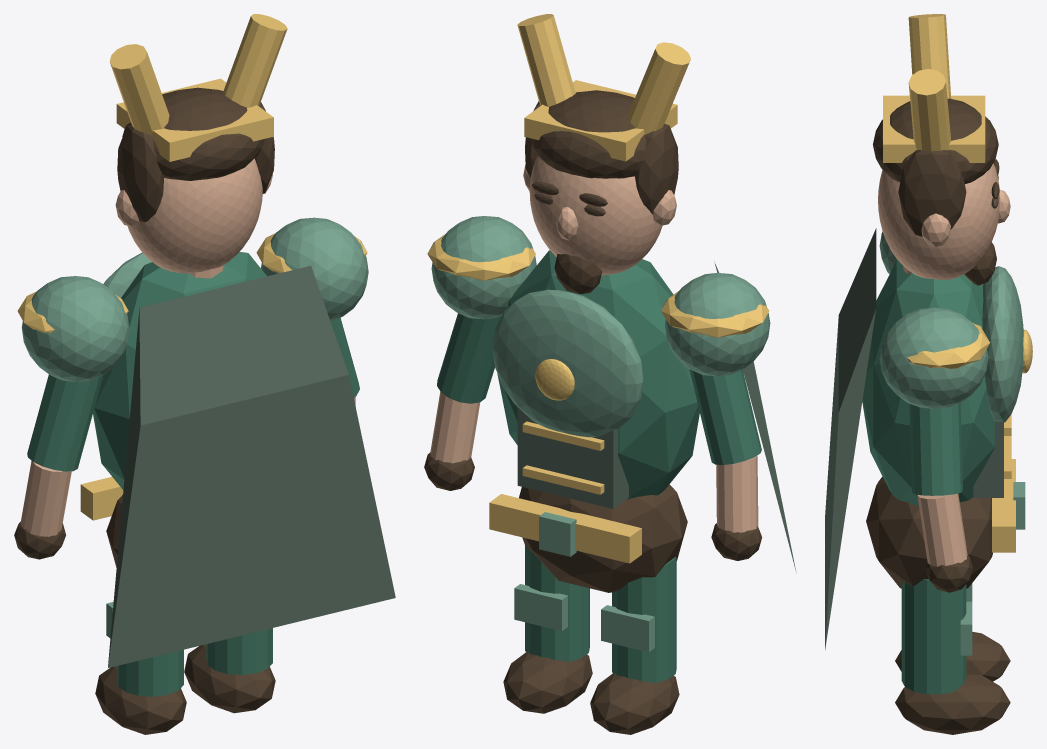
Rendered from loki.glb.
The picture shows the model from 3 angles, left to right: view 1: azimuth 30°, elevation 25°; view 2: azimuth 150°, elevation 25°; view 3: azimuth 270°, elevation 25°; orthographic projection. The views are drawn at different scales.
Visible parts, largest first — view 1: loki_39_Draped cape, loki_23_Face, loki_12_Shoulder pauldron, loki_0_Armored torso, loki_17_Shoulder pauldron, loki_31_Hair, loki_13_Upper arm, loki_37_Right curved horn, loki_10_Boot, loki_7_Boot, loki_36_Left curved horn, loki_38_Horned circlet (+11 smaller); view 2: loki_2_Chest plate, loki_0_Armored torso, loki_23_Face, loki_1_Waist and belt, loki_12_Shoulder pauldron, loki_31_Hair, loki_17_Shoulder pauldron, loki_35_Long tunic panel, loki_6_Greave, loki_13_Upper arm, loki_4_Ornate belt, loki_7_Boot (+21 smaller); view 3: loki_0_Armored torso, loki_39_Draped cape, loki_17_Shoulder pauldron, loki_23_Face, loki_9_Greave, loki_1_Waist and belt, loki_2_Chest plate, loki_18_Upper arm, loki_10_Boot, loki_33_Side lock, loki_31_Hair, loki_37_Right curved horn (+14 smaller).
Part boxes in pixels (x1,y1,x2,y2): loki_39_Draped cape: (108,265,395,667); loki_23_Face: (127,158,262,273); loki_12_Shoulder pauldron: (21,276,129,381); loki_0_Armored torso: (93,251,266,489); loki_17_Shoulder pauldron: (261,217,368,321); loki_31_Hair: (122,87,264,180); loki_13_Upper arm: (27,374,103,471); loki_37_Right curved horn: (223,14,287,107); loki_10_Boot: (184,644,275,713); loki_7_Boot: (95,666,186,734); loki_36_Left curved horn: (109,44,169,135); loki_38_Horned circlet: (116,78,273,161); loki_2_Chest plate: (492,289,643,437); loki_0_Armored torso: (497,250,699,499); loki_23_Face: (529,156,662,275); loki_1_Waist and belt: (519,484,687,592); loki_12_Shoulder pauldron: (665,273,770,376); loki_31_Hair: (530,90,645,178); loki_17_Shoulder pauldron: (431,216,536,319); loki_35_Long tunic panel: (517,407,628,508); loki_6_Greave: (612,557,676,682); loki_13_Upper arm: (689,369,761,464); loki_4_Ornate belt: (489,494,641,563); loki_7_Boot: (590,673,679,734); loki_0_Armored torso: (862,260,994,506); loki_39_Draped cape: (825,228,876,649); loki_17_Shoulder pauldron: (879,307,988,408); loki_23_Face: (878,163,999,279); loki_9_Greave: (901,579,966,694); loki_1_Waist and belt: (866,476,992,588); loki_2_Chest plate: (982,266,1023,422); loki_18_Upper arm: (909,403,962,495); loki_10_Boot: (895,672,1010,734); loki_33_Side lock: (898,150,966,236); loki_31_Hair: (873,98,998,183); loki_37_Right curved horn: (908,69,951,151).
Bounding box in the file's own units: 1.11 × 2.16 × 0.61.
